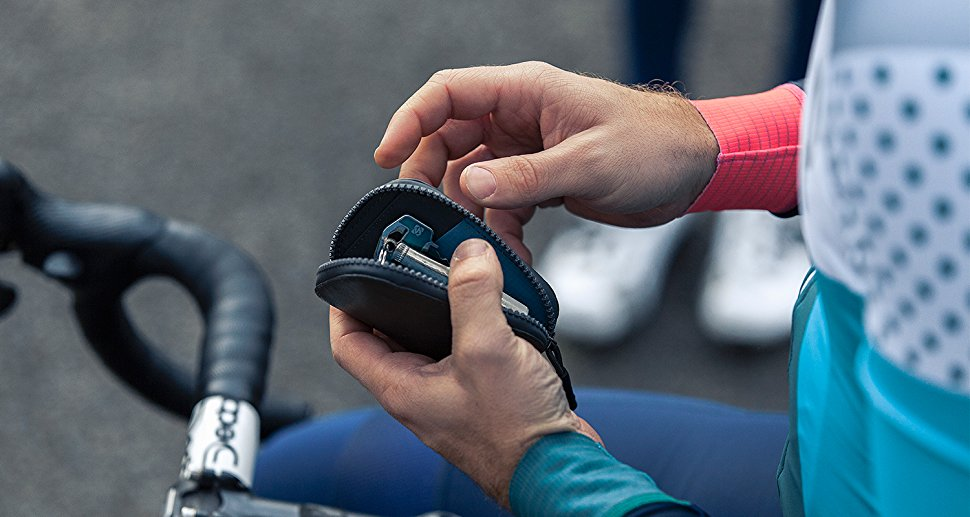monedero: (312, 173, 564, 367)
